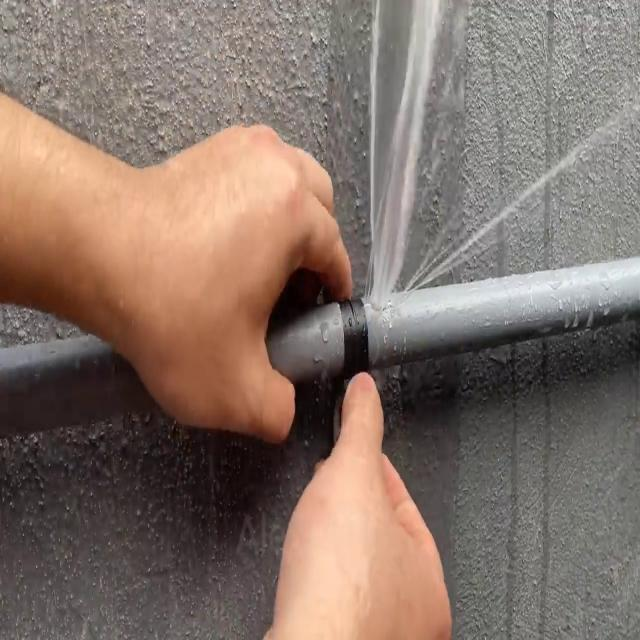leak: (368, 0, 446, 304)
